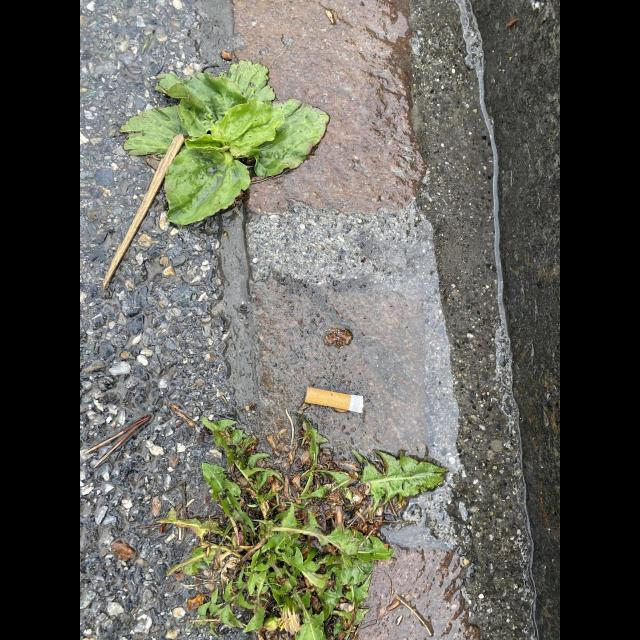cigarette: (304, 387, 364, 413)
